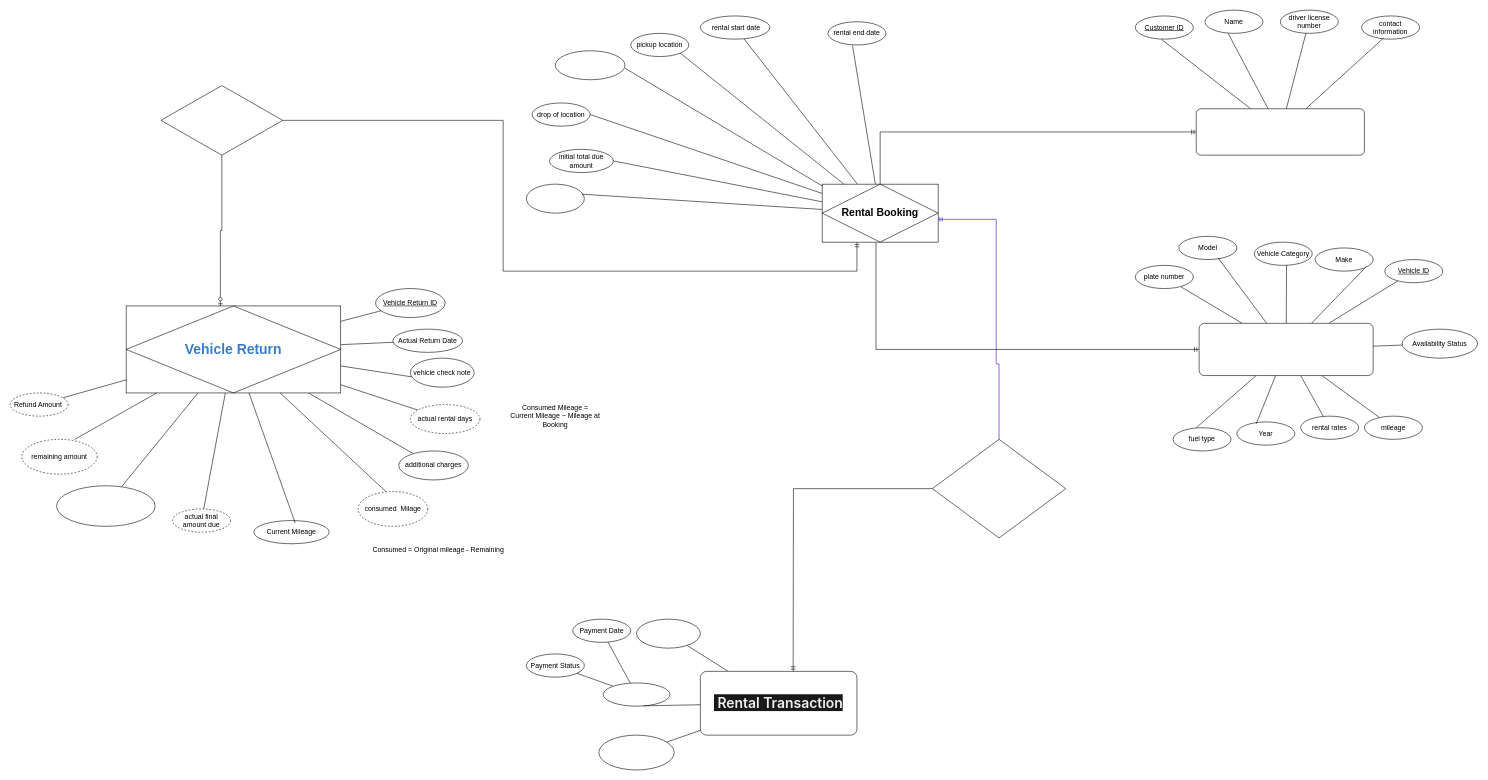
This 1488x780 diagram has some shape labels left out. The centre of each missing label's shape, as x and y in pixels:
Customer: point 1280,131
Final Amount Due: point 105,505
Has: point 999,488
initial paid amount: point 668,633
initial vehicle check notes: point 555,198
Payment Details: point 636,694
Rental Transaction ID: point 636,752
Results in: point 221,120
Vehicle: point 1286,349
Vehicle Booking ID: point 590,65
